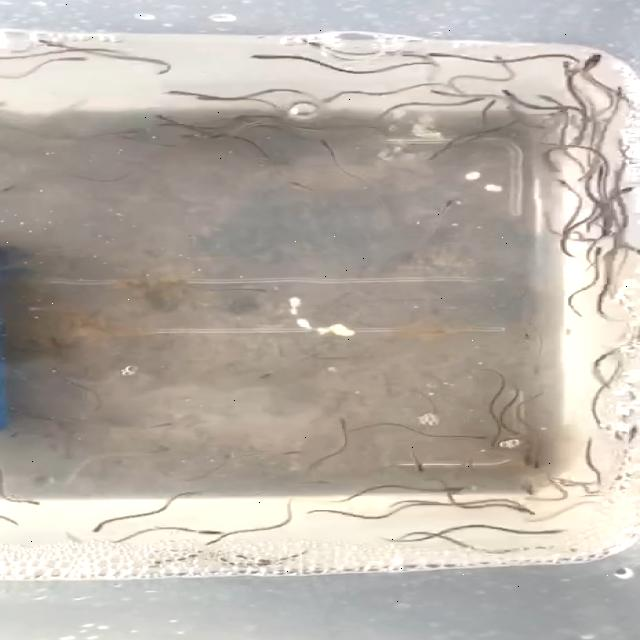inactive_glass_eel: (268, 38, 336, 51), (570, 55, 622, 71), (134, 63, 180, 79), (236, 53, 290, 65), (224, 556, 274, 568), (310, 91, 345, 108), (603, 86, 629, 108), (53, 51, 91, 66), (506, 506, 546, 520), (432, 193, 466, 209), (476, 99, 500, 121), (148, 119, 184, 133), (552, 178, 578, 197), (489, 86, 524, 100), (529, 90, 559, 106), (88, 516, 114, 534), (309, 136, 335, 154), (475, 439, 505, 454), (503, 501, 543, 512), (451, 431, 487, 443), (482, 52, 509, 68), (510, 452, 540, 466), (540, 524, 570, 538), (536, 155, 558, 174), (414, 51, 454, 61), (585, 241, 607, 259), (184, 96, 233, 104), (195, 526, 227, 538), (466, 92, 486, 111), (134, 556, 170, 566), (417, 87, 453, 97), (331, 414, 352, 431), (618, 182, 640, 198), (408, 461, 433, 475), (438, 482, 469, 493), (160, 87, 193, 97), (0, 515, 25, 528), (526, 456, 548, 470), (15, 498, 48, 506), (147, 113, 179, 121)
